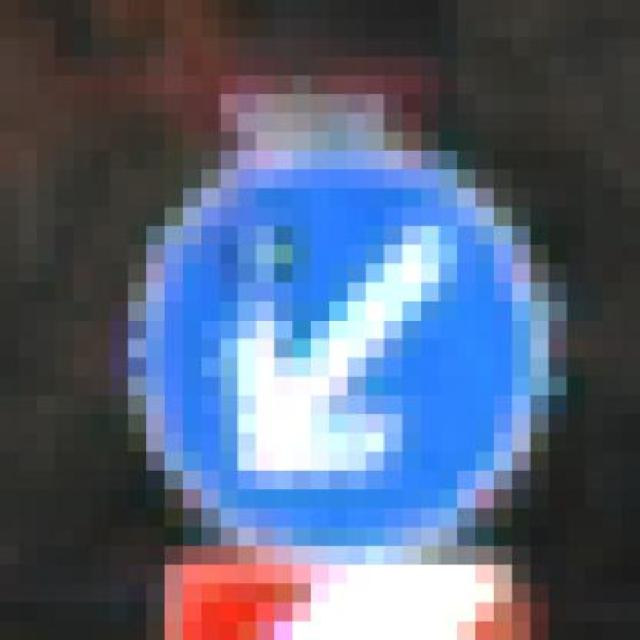Keep-Left: (73, 132, 585, 583)
